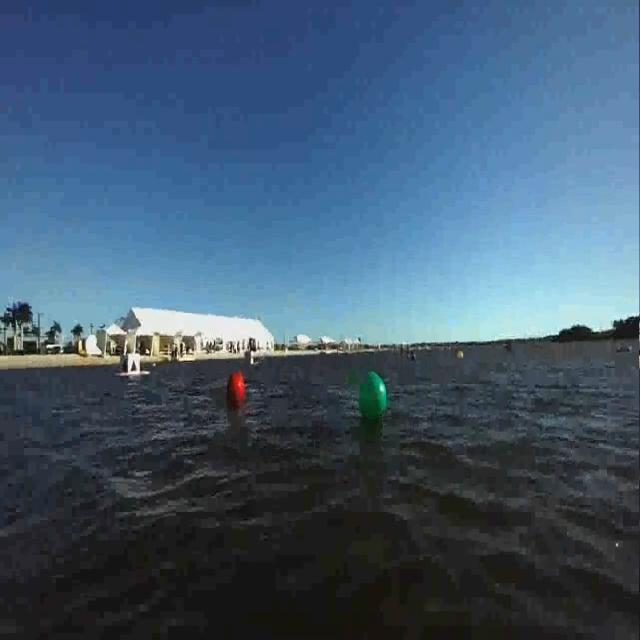green-buoy: (357, 373, 388, 422)
red-buoy: (228, 374, 246, 406)
yellow-buoy: (458, 350, 464, 360)
